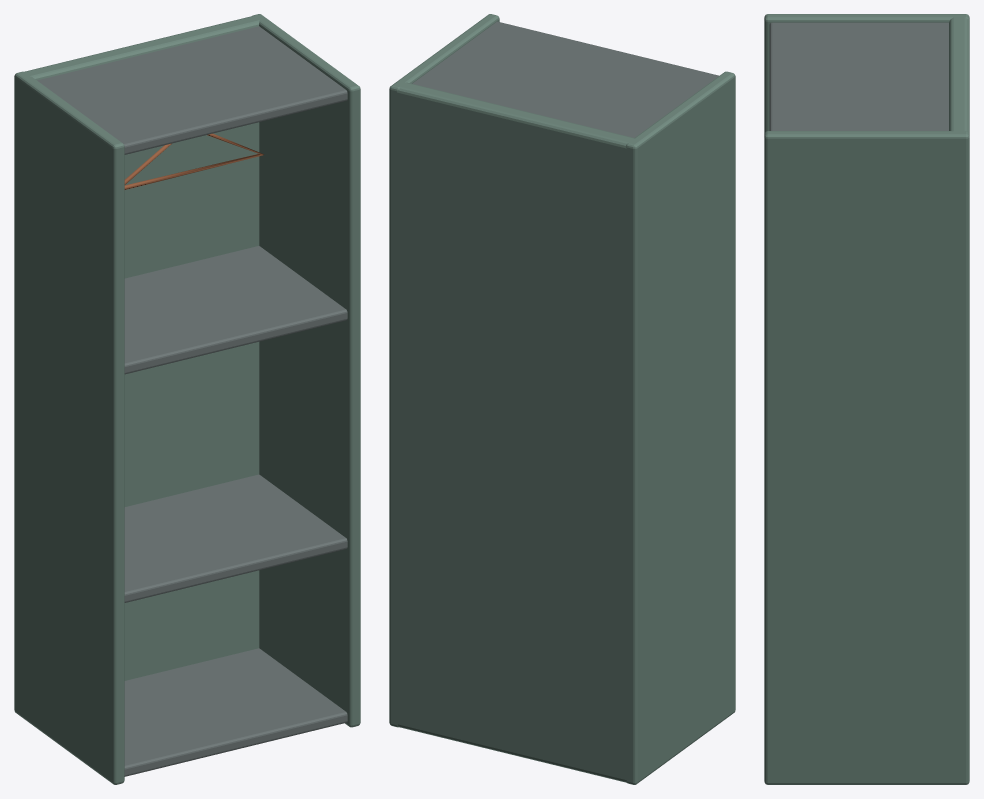
The model's file is locker_shell.glb.
The picture shows the model from 3 angles, left to right: view 1: azimuth 30°, elevation 25°; view 2: azimuth 150°, elevation 25°; view 3: azimuth 270°, elevation 25°; orthographic projection.
Parts seen in each view (by area): view 1: locker_shell; view 2: locker_shell; view 3: locker_shell.
Part boxes in pixels (bbox=[...]): locker_shell: bbox=[14, 14, 360, 784]; locker_shell: bbox=[389, 14, 735, 784]; locker_shell: bbox=[764, 14, 969, 784].
Size of the model in its own units: 0.85 by 2.1 by 0.6.
